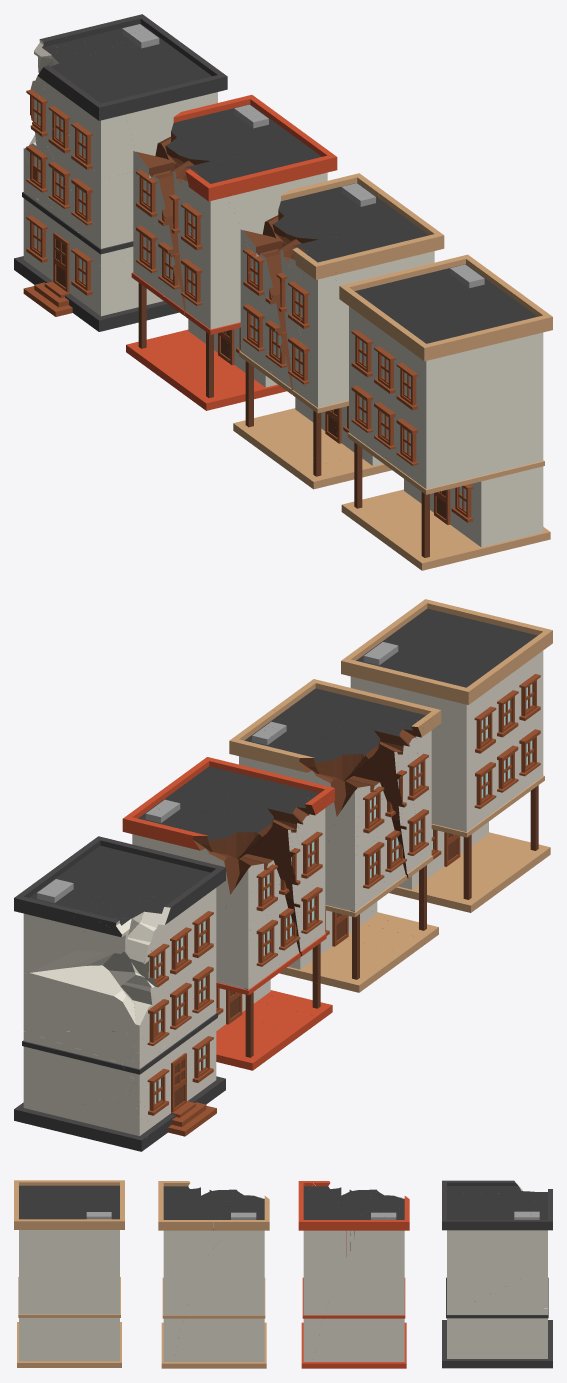
The model's file is SupermarketBuildings.fbx.
3 views of the same model, one above another, from view 1: azimuth 30°, elevation 25°; view 2: azimuth 150°, elevation 25°; view 3: azimuth 270°, elevation 25° (orthographic). The views are drawn at different scales.
Parts seen in each view (by area): view 1: Flat2.001, Flat1_cell.013, Flat2_cell.016, Flat2_cell.017; view 2: Flat1_cell.013, Flat2.001, Flat2_cell.017, Flat2_cell.016; view 3: Flat1_cell.013, Flat2.001, Flat2_cell.016, Flat2_cell.017.
Boxes of the visible parts, <box> form: Flat2.001: <box>339,254,552,570</box>; Flat1_cell.013: <box>14,14,227,331</box>; Flat2_cell.016: <box>126,95,337,410</box>; Flat2_cell.017: <box>233,173,444,489</box>; Flat1_cell.013: <box>14,836,225,1151</box>; Flat2.001: <box>341,599,552,912</box>; Flat2_cell.017: <box>229,679,441,992</box>; Flat2_cell.016: <box>122,757,334,1070</box>; Flat1_cell.013: <box>442,1180,552,1368</box>; Flat2.001: <box>14,1180,124,1367</box>; Flat2_cell.016: <box>298,1181,409,1368</box>; Flat2_cell.017: <box>158,1181,269,1368</box>.
Bounding box in the file's own units: 11.31 × 16.72 × 55.46.
